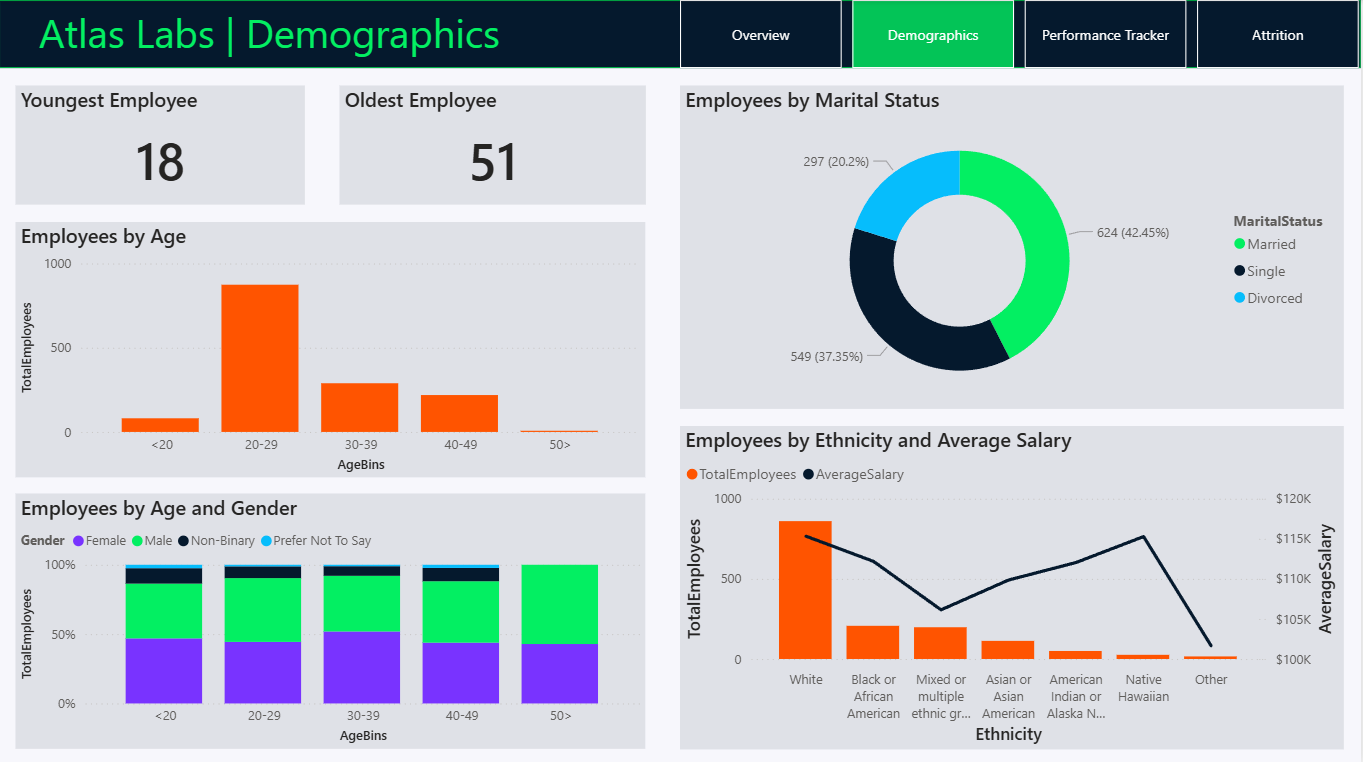

This screenshot's page, from the dashboard's own definition file:
{"tool":"powerbi","page":{"name":"Demographics","canvas":[1280,720],"ordinal":1},"visuals":[{"type":"card","title":"Youngest Employee","fields":{"Values":["Sum(DimEmployee.Age)"]},"box":[16,80,272,112],"z":0},{"type":"card","title":"Oldest Employee","fields":{"Values":["Sum(DimEmployee.Age)"]},"box":[320,80,288,112],"z":1000},{"type":"columnChart","title":"Employees by Age","fields":{"Category":["DimEmployee.AgeBins"],"Y":["_Measures.TotalEmployees"]},"box":[16,208,592,240],"z":2000},{"type":"hundredPercentStackedColumnChart","title":"Employees by Age and Gender","fields":{"Category":["DimEmployee.AgeBins"],"Series":["DimEmployee.Gender"],"Y":["_Measures.TotalEmployees"]},"box":[16,464,592,240],"z":3000},{"type":"donutChart","title":"Employees by Marital Status","fields":{"Category":["DimEmployee.MaritalStatus"],"Y":["_Measures.TotalEmployees"]},"box":[640,80,624,304],"z":4000},{"type":"lineStackedColumnComboChart","title":"Employees by Ethnicity and Average Salary","fields":{"Category":["DimEmployee.Ethnicity"],"Y":["_Measures.TotalEmployees"],"Y2":["_Measures.AverageSalary"]},"box":[640,400,624,304],"z":5000},{"type":"shape","box":[0,0,1280,64],"z":6000},{"type":"textbox","box":[32,0,624,64],"z":7000},{"type":"pageNavigator","box":[640,0,640,64],"z":8000}]}

Visuals, with their boxes in screenshot pixels (x1, y1, x2, y2), scaled from the page's 1280x720 canvas onto the 1363x762 screenshot:
"Youngest Employee" card: {"x1": 17, "y1": 85, "x2": 307, "y2": 203}
"Oldest Employee" card: {"x1": 341, "y1": 85, "x2": 647, "y2": 203}
"Employees by Age" columnChart: {"x1": 17, "y1": 220, "x2": 647, "y2": 474}
"Employees by Age and Gender" hundredPercentStackedColumnChart: {"x1": 17, "y1": 491, "x2": 647, "y2": 745}
"Employees by Marital Status" donutChart: {"x1": 682, "y1": 85, "x2": 1346, "y2": 406}
"Employees by Ethnicity and Average Salary" lineStackedColumnComboChart: {"x1": 682, "y1": 423, "x2": 1346, "y2": 745}
shape: {"x1": 0, "y1": 0, "x2": 1362, "y2": 68}
textbox: {"x1": 34, "y1": 0, "x2": 699, "y2": 68}
pageNavigator: {"x1": 682, "y1": 0, "x2": 1362, "y2": 68}
